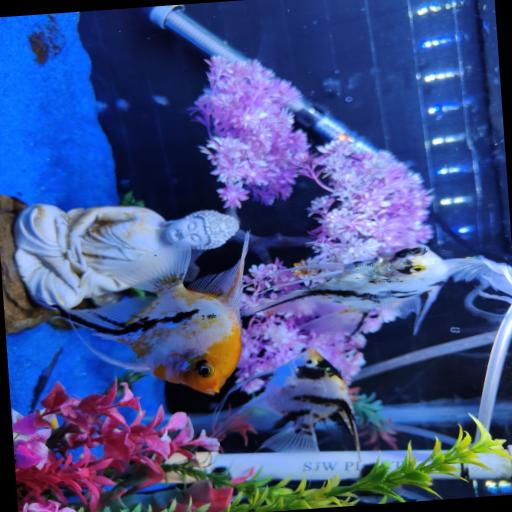Fish: (57, 233, 248, 394), (241, 245, 449, 335), (215, 349, 357, 452), (445, 257, 511, 302)
